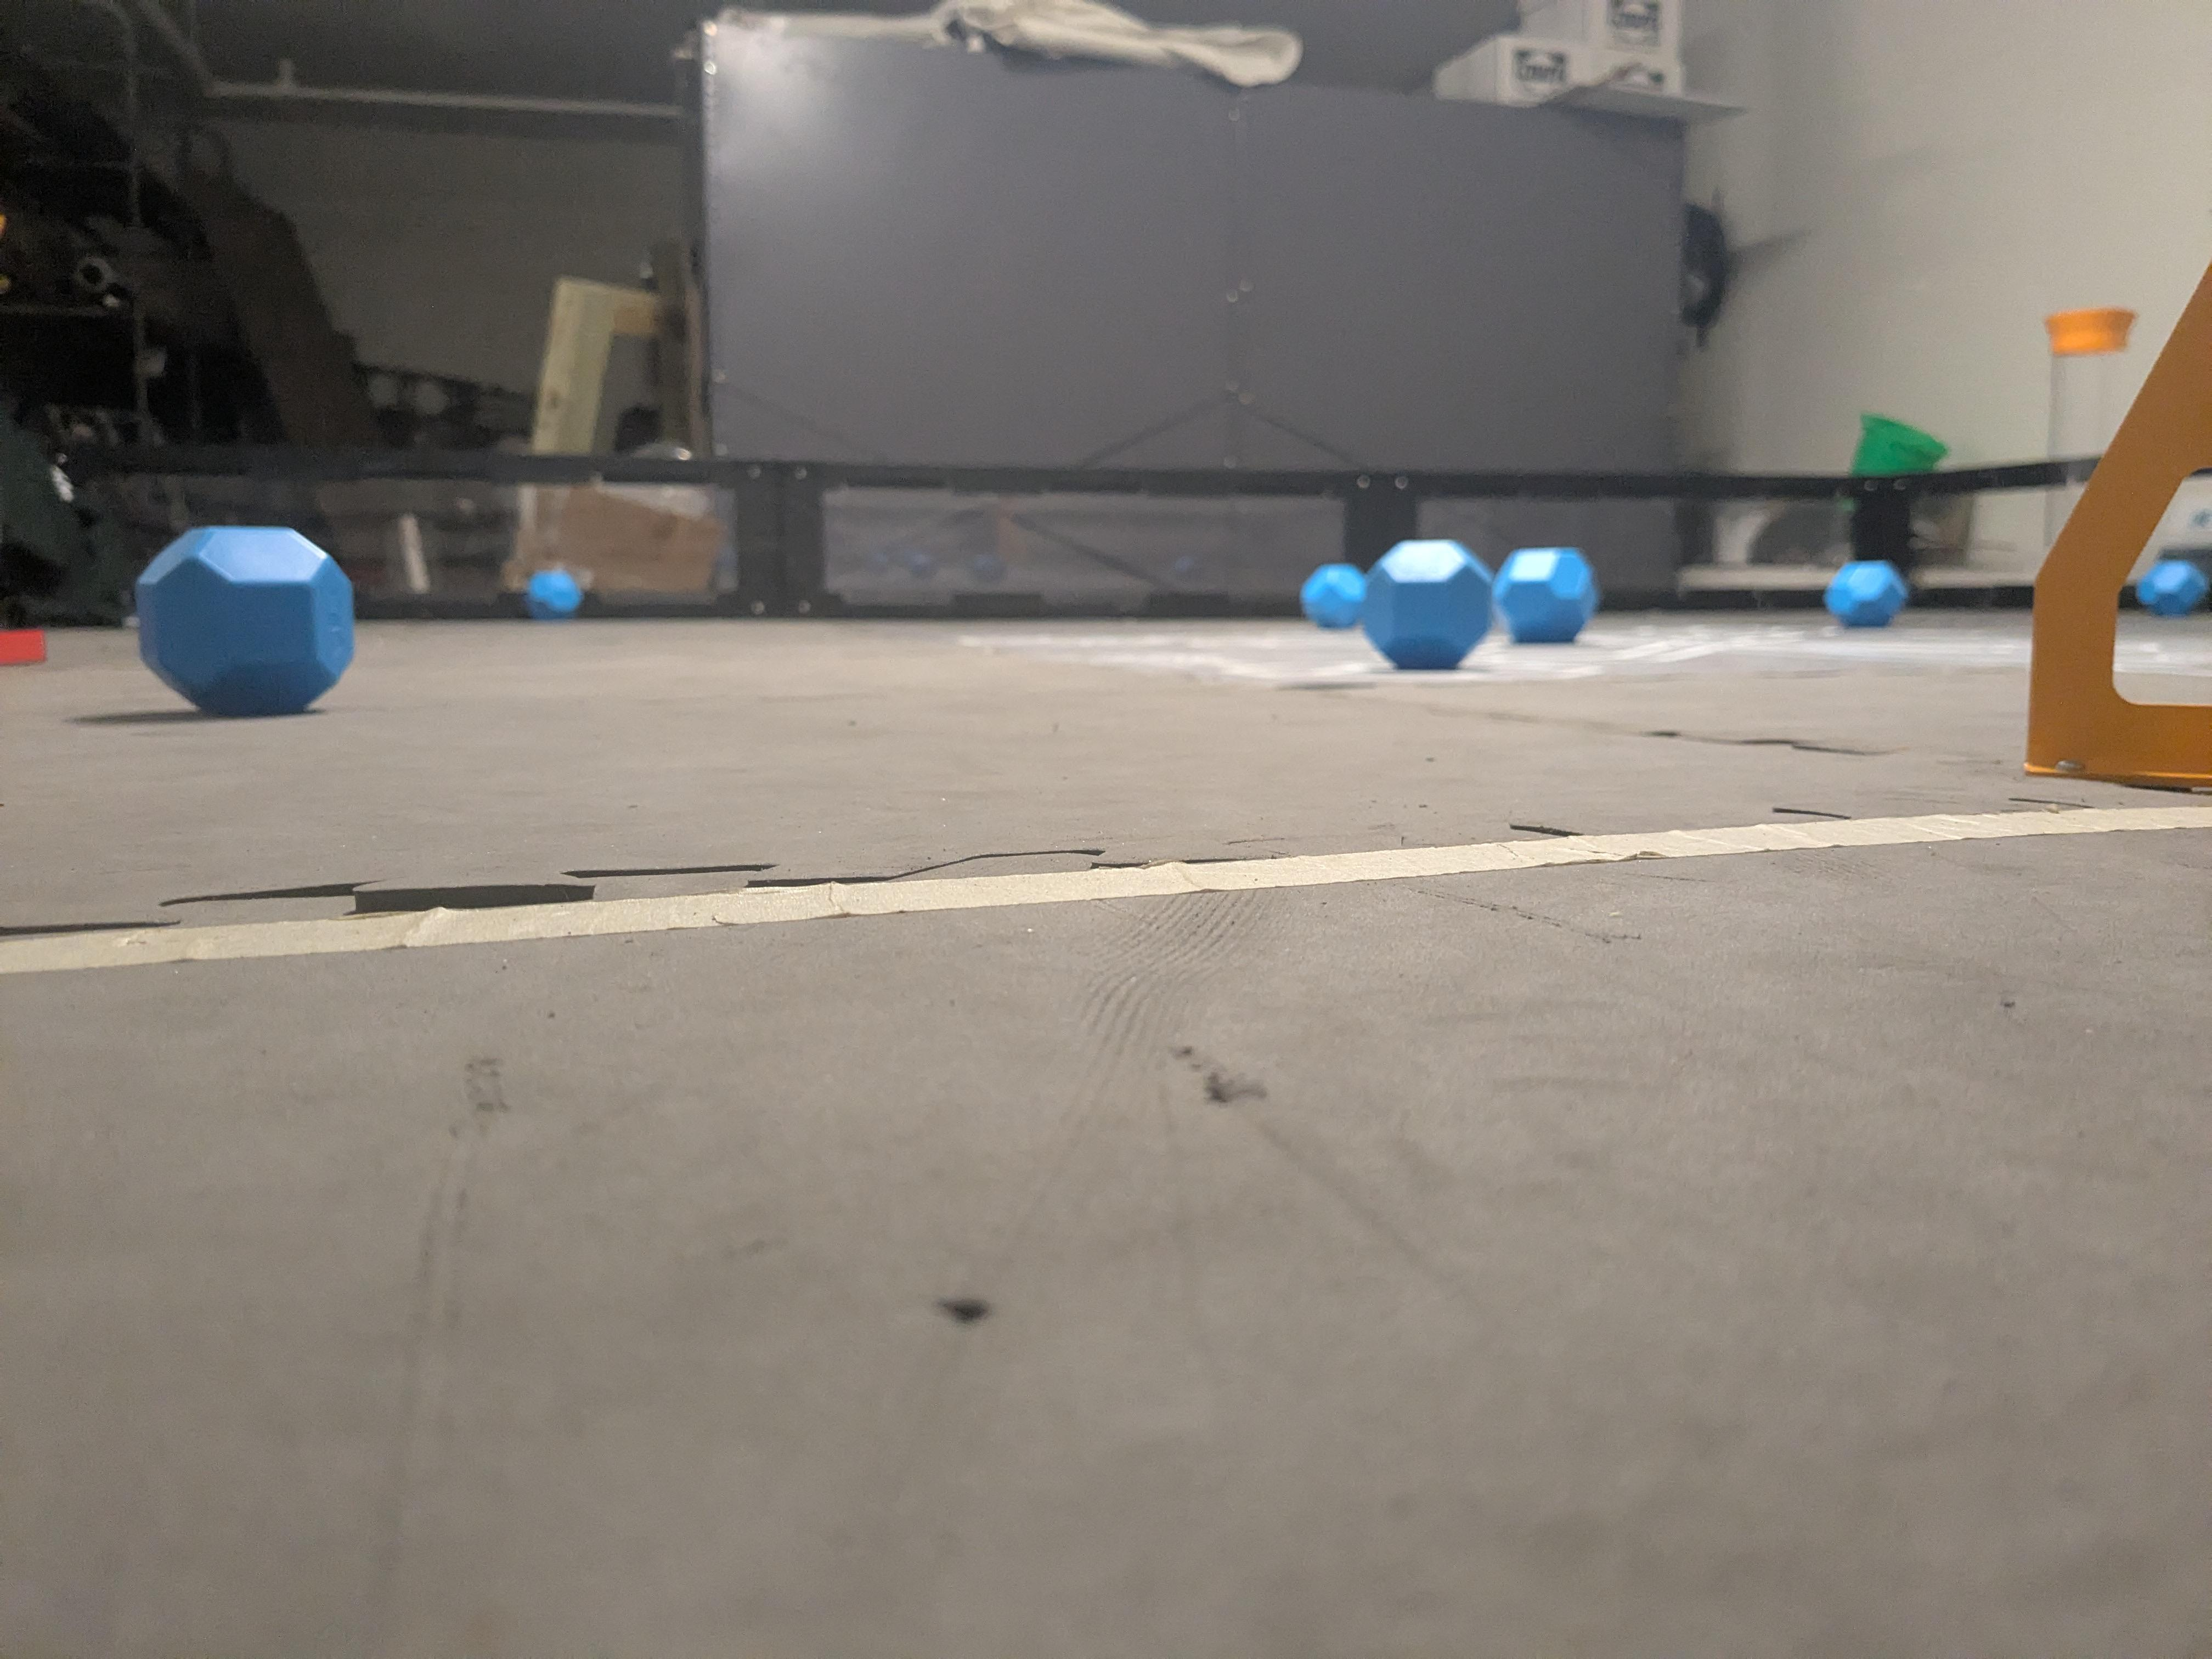Vex-Pieces-BLUE: (138, 528, 352, 713), (1303, 544, 1486, 669), (1493, 547, 1597, 643), (1824, 563, 1904, 629), (2137, 559, 2207, 617), (523, 570, 583, 620)
